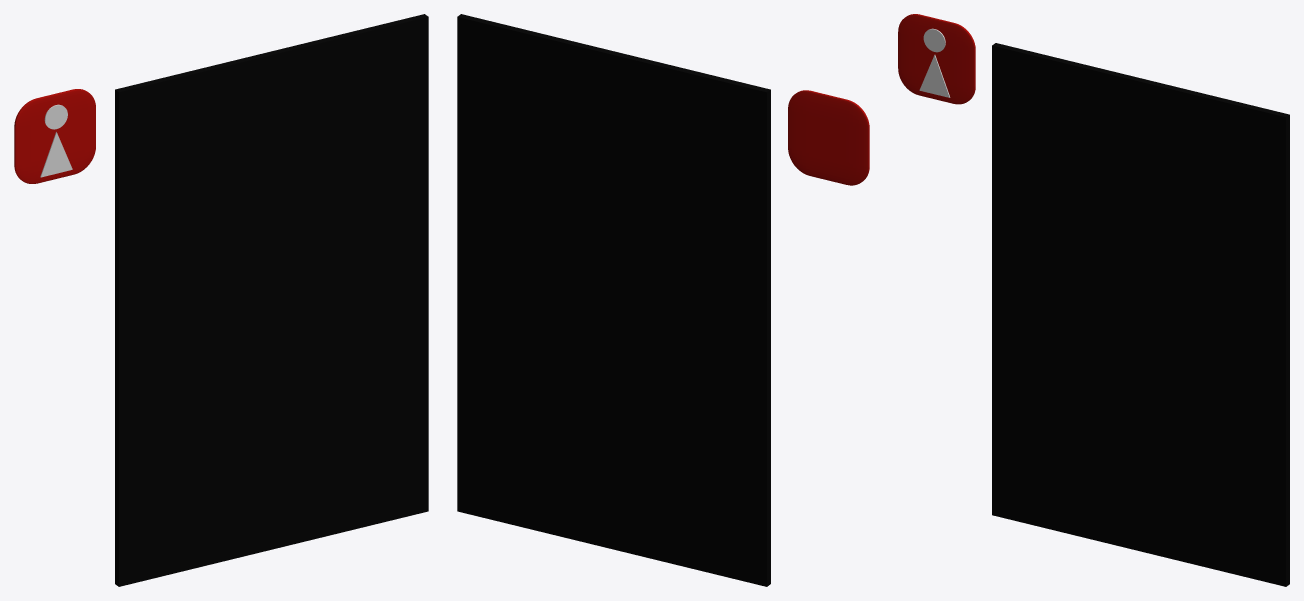
File: toiletmark.fbx
3 renders of one model, left to right at view 1: azimuth 30°, elevation 25°; view 2: azimuth 150°, elevation 25°; view 3: azimuth 330°, elevation 25°, orthographic. The views are drawn at different scales.
Visible parts, largest first — view 1: 立方体, 立方体.001; view 2: 立方体, 立方体.001; view 3: 立方体, 立方体.001.
Boxes of the visible parts, bbox=[...] form: 立方体: bbox=[115, 14, 428, 586]; 立方体.001: bbox=[14, 89, 95, 183]; 立方体: bbox=[457, 14, 770, 586]; 立方体.001: bbox=[788, 90, 869, 185]; 立方体: bbox=[992, 43, 1289, 586]; 立方体.001: bbox=[898, 14, 975, 104].
Bounding box in the file's own units: 5.58 × 6.55 × 0.094.
